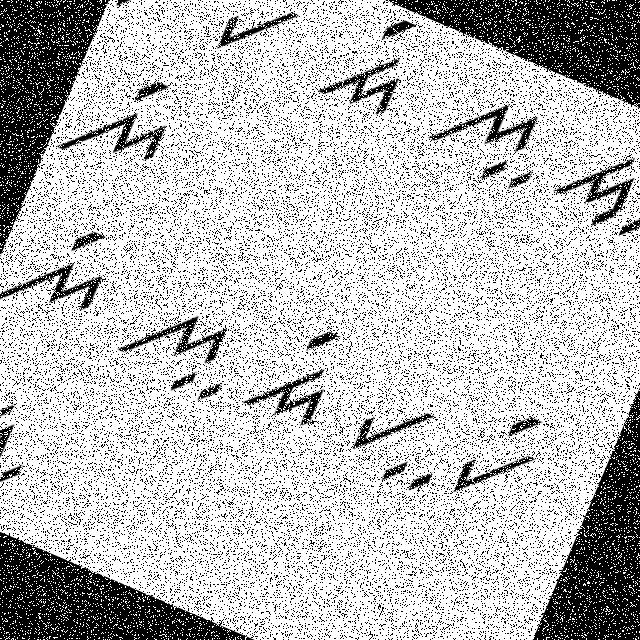dah: (542, 123, 639, 245), (0, 368, 53, 494)
dang: (231, 302, 351, 440), (307, 0, 429, 127)
nah: (105, 278, 255, 421), (418, 75, 560, 204)
nang: (55, 48, 194, 192), (0, 195, 126, 342)
pah: (331, 376, 464, 506)
pan: (108, 0, 222, 35)
pang: (446, 394, 554, 522), (205, 0, 320, 79)
